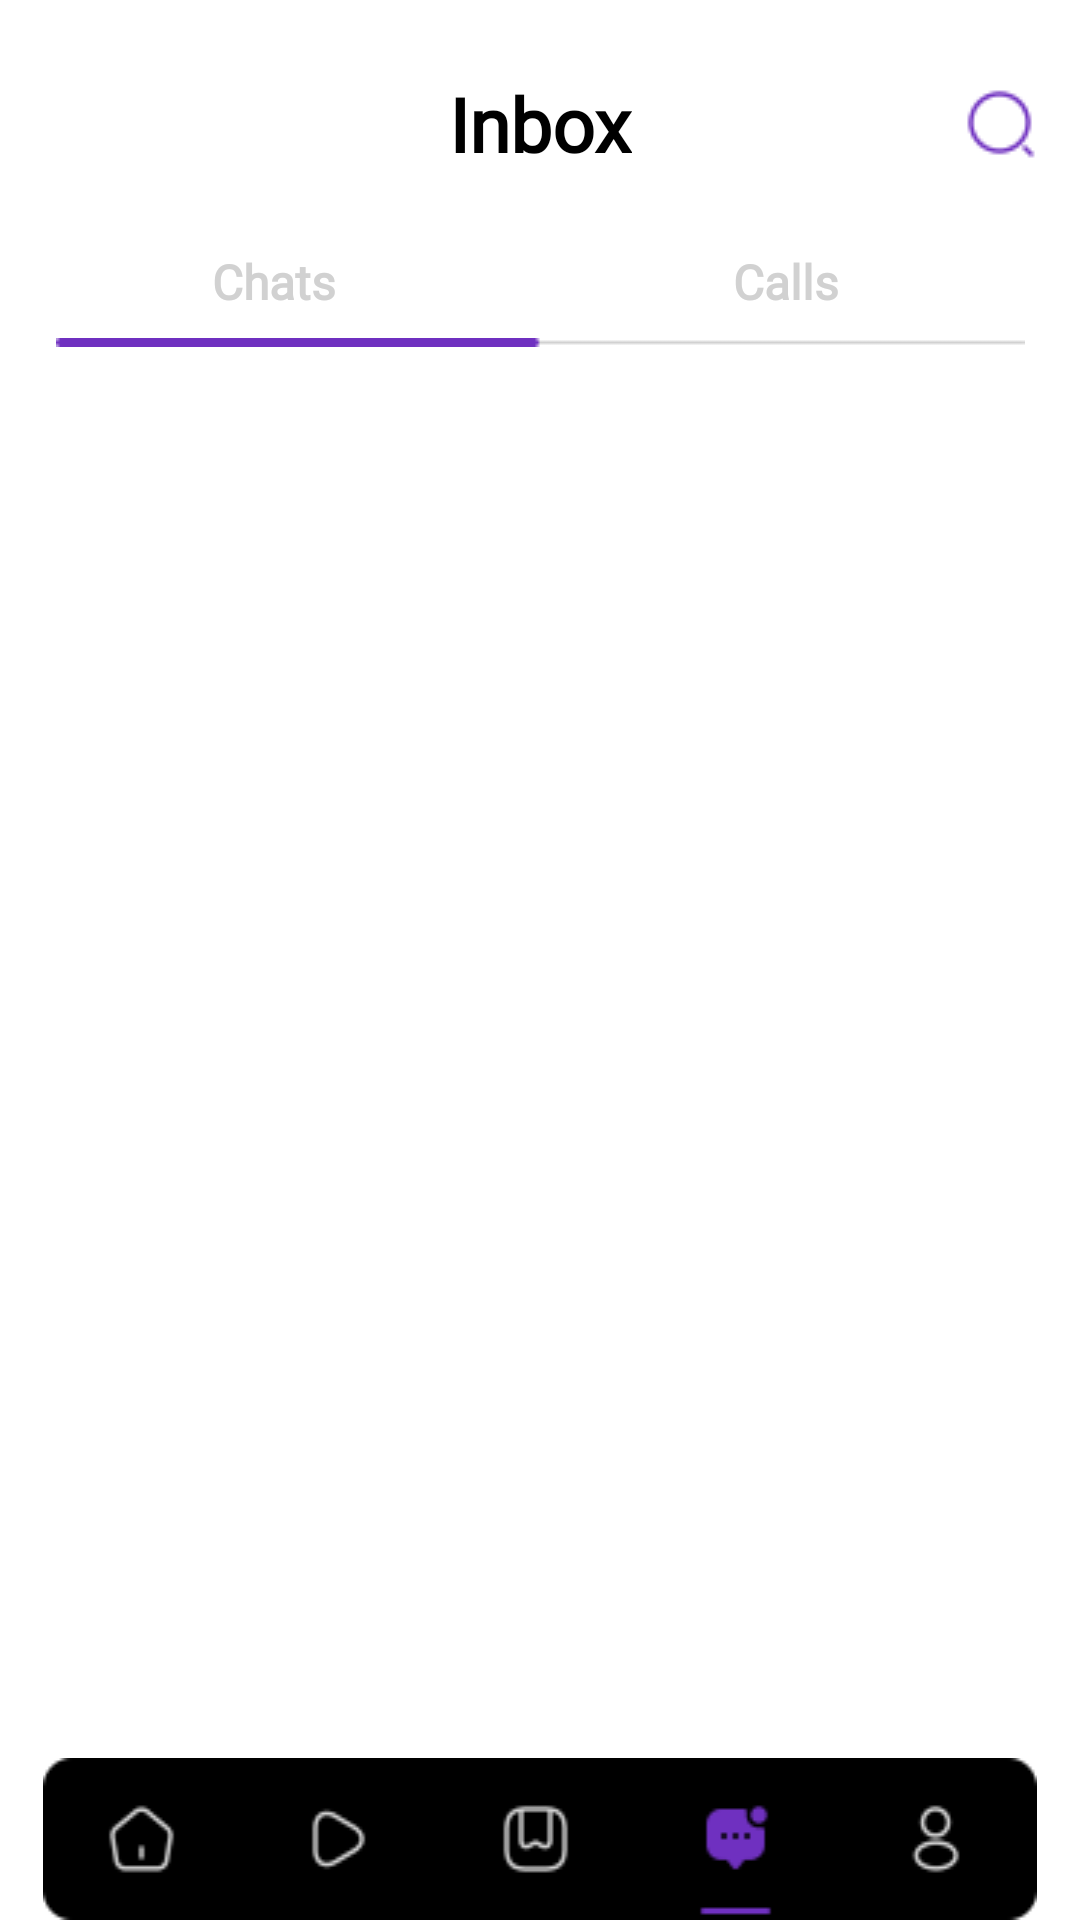

Icon click points for this 1080px x 1920px phone screenshot, format (x=x, y=y):
search: (x=1001, y=124)
